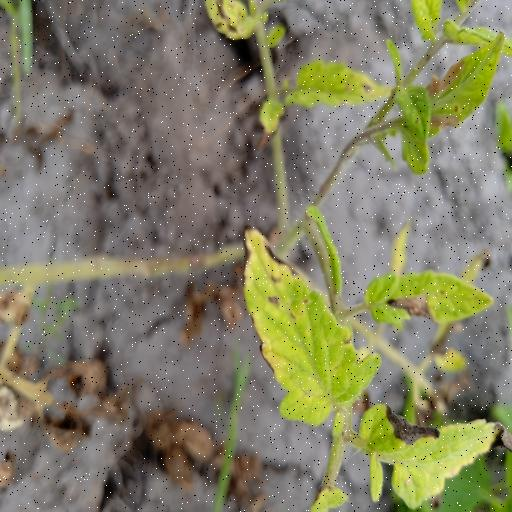Tomato_Brown_Spots: (242, 220, 384, 426), (362, 399, 503, 511), (402, 28, 508, 166), (371, 268, 494, 330)
